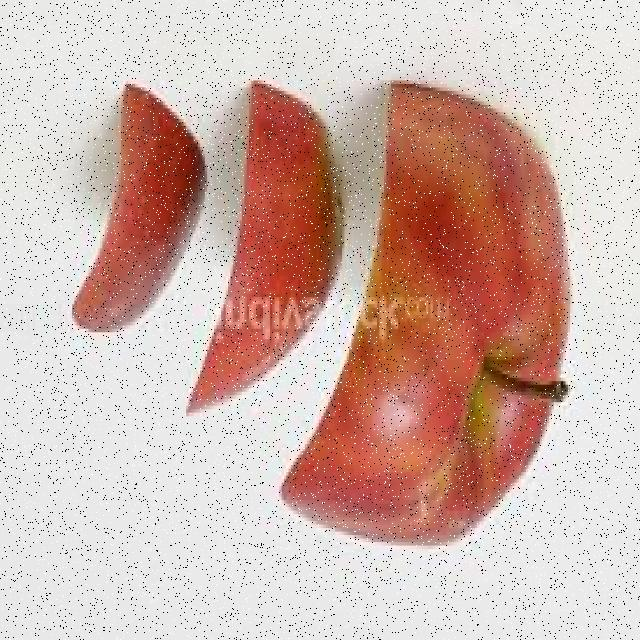Apple: (279, 82, 574, 590), (180, 79, 352, 420), (62, 79, 211, 340)
